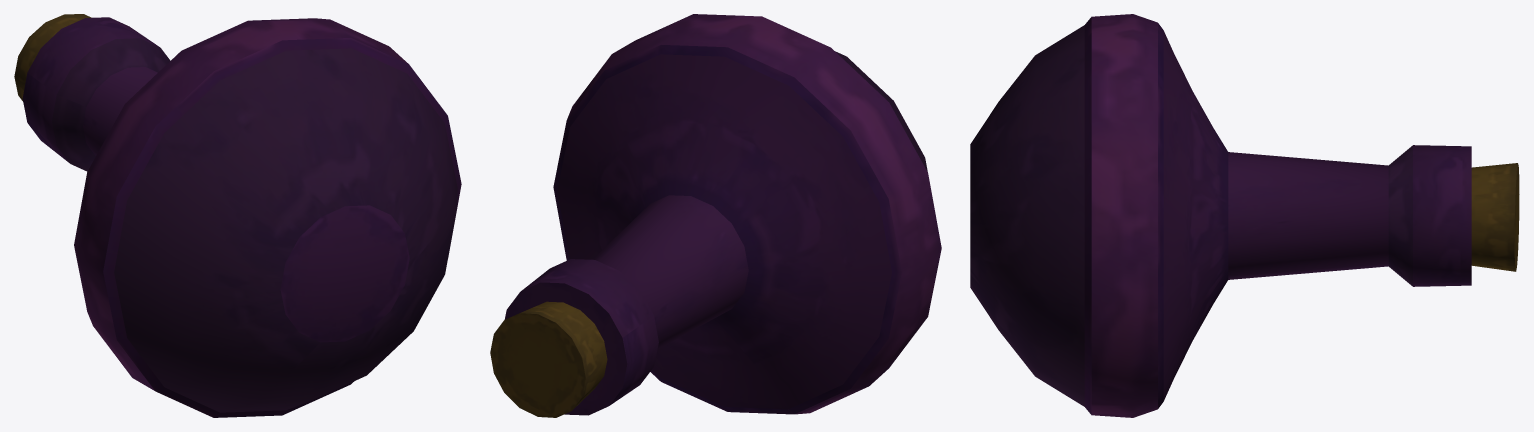
Rendered from fp-potion-4-lod0.glb.
3 renders of one model, left to right at view 1: azimuth 30°, elevation 25°; view 2: azimuth 150°, elevation 25°; view 3: azimuth 270°, elevation 25°, orthographic. The views are drawn at different scales.
Visible parts, largest first — view 1: WeaponMesh_fp-potion-4_Potion_4; view 2: WeaponMesh_fp-potion-4_Potion_4; view 3: WeaponMesh_fp-potion-4_Potion_4.
Part boxes in pixels (<box>): WeaponMesh_fp-potion-4_Potion_4: <box>14,14,461,417</box>; WeaponMesh_fp-potion-4_Potion_4: <box>490,14,941,417</box>; WeaponMesh_fp-potion-4_Potion_4: <box>970,14,1519,417</box>.
Size of the model in its own units: 0.3683 by 0.3683 by 0.5.
Materials: 1 (1 with a texture image).
